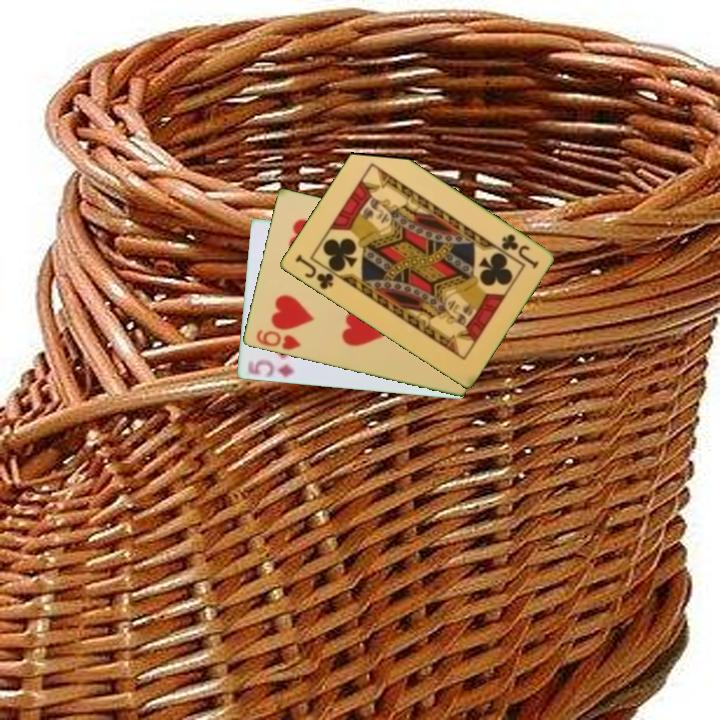5d: (243, 356, 297, 380)
6h: (252, 327, 303, 353)
Jc: (291, 251, 336, 293), (497, 230, 541, 272)
